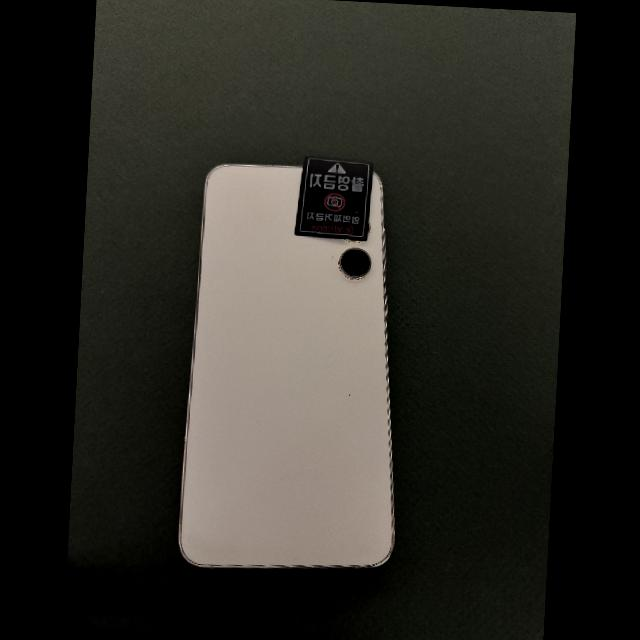lens: (338, 249, 369, 277)
phone: (176, 166, 394, 568)
sticker: (294, 156, 373, 242)
